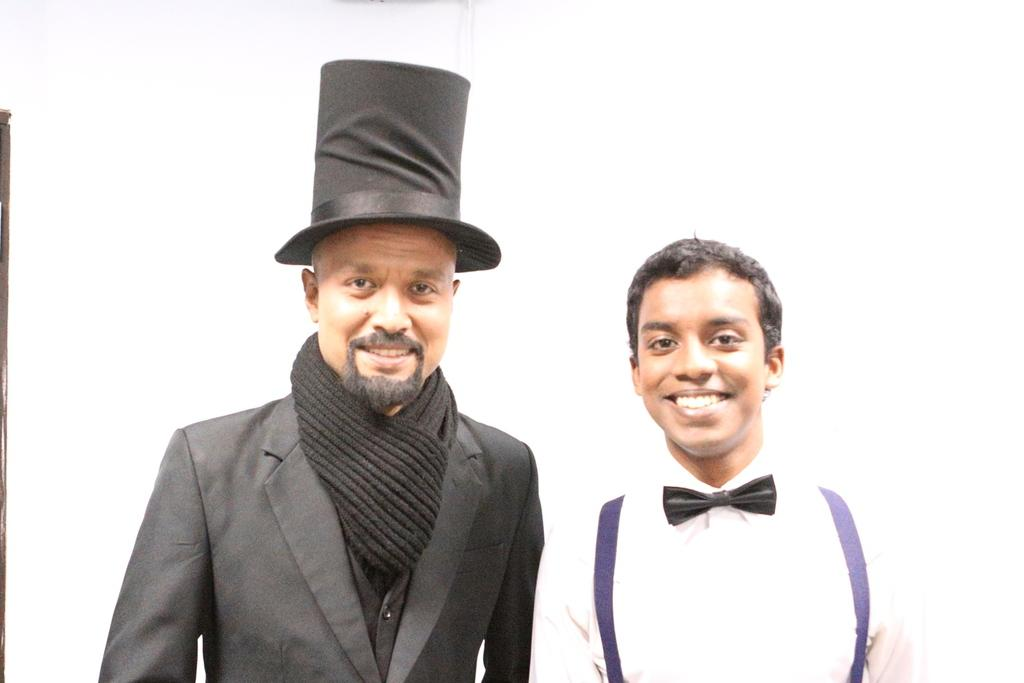Hat: (272, 57, 500, 274)
